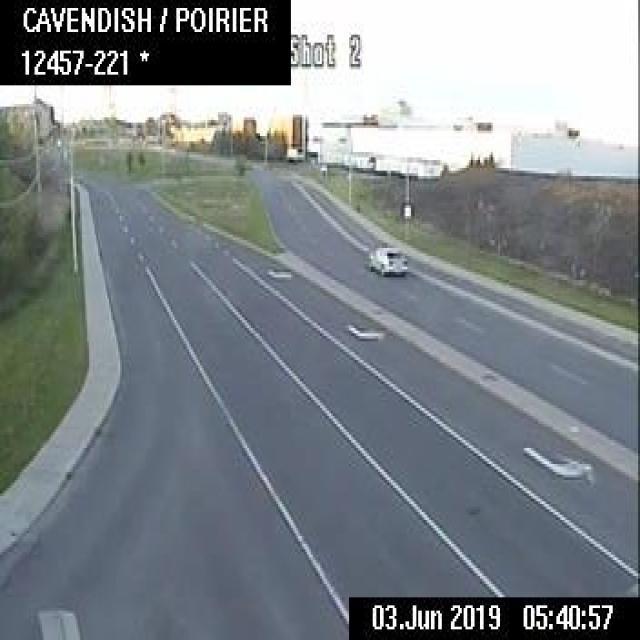vehicle: (364, 242, 407, 274)
